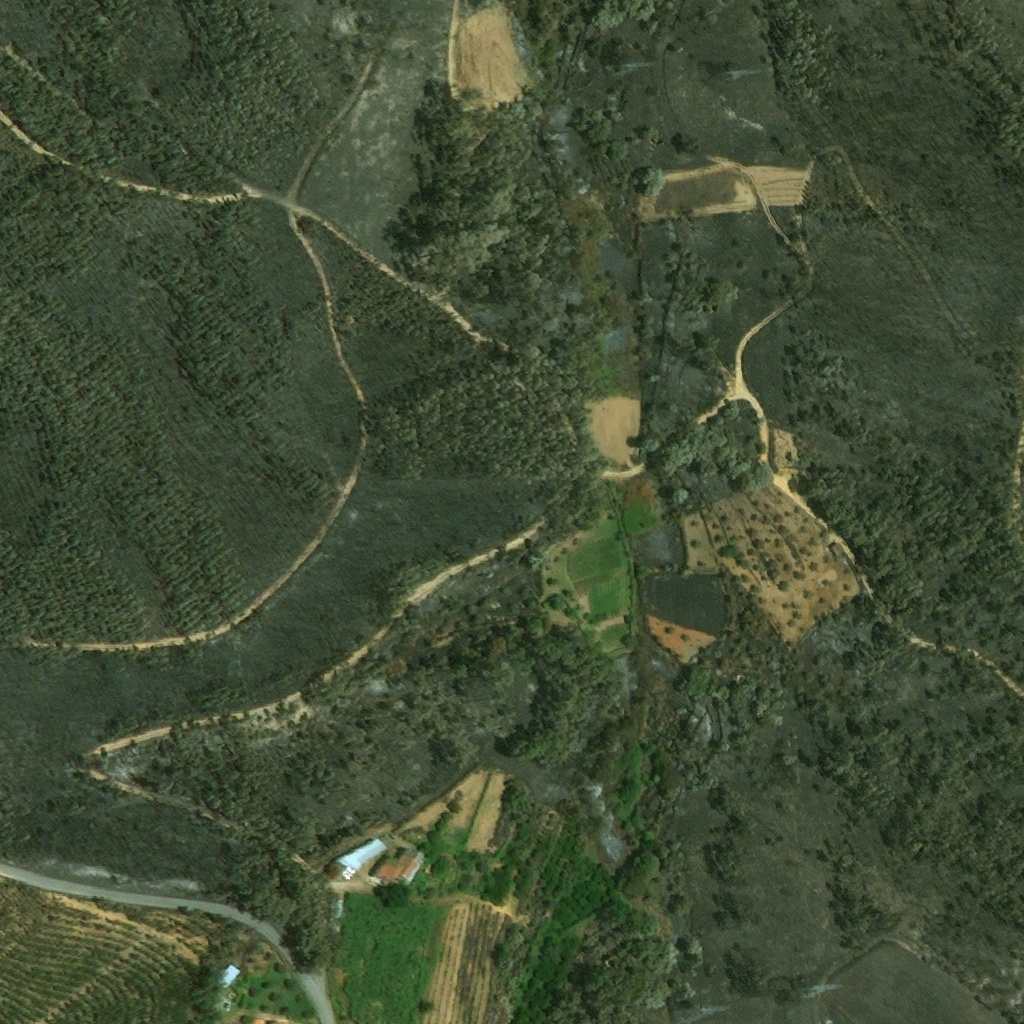0 no-damage: (323, 835, 387, 881), (365, 846, 428, 883), (215, 963, 240, 989), (327, 895, 343, 919)
4 un-classified: (250, 1018, 265, 1023)
